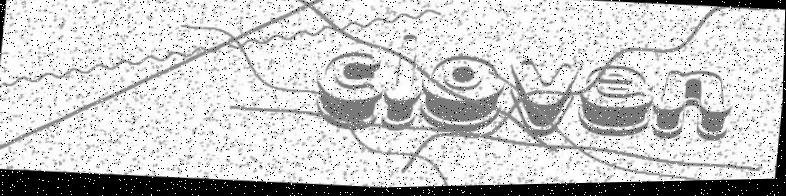c: (312, 49, 387, 135)
e: (576, 65, 656, 143)
l: (381, 34, 427, 135)
n: (651, 70, 736, 147)
o: (418, 53, 508, 139)
v: (503, 58, 580, 144)
